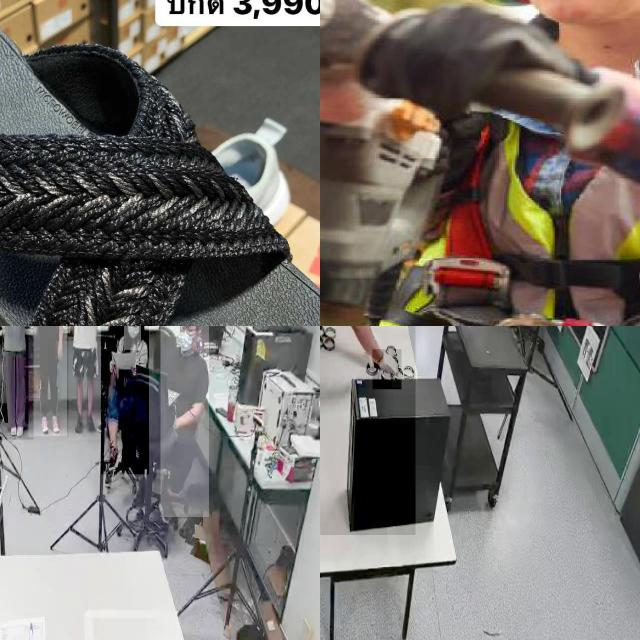Sandals: (0, 0, 320, 326)
face_mask: (179, 326, 199, 358), (124, 326, 141, 350)
hand_glove: (372, 349, 402, 390)
hand_noglove: (56, 341, 64, 361), (68, 326, 74, 337)
person: (320, 0, 640, 326), (320, 326, 416, 535), (160, 326, 209, 518), (100, 326, 149, 475), (28, 326, 67, 437), (0, 326, 34, 440), (68, 326, 101, 440)
shoes: (105, 439, 123, 474), (84, 408, 98, 434), (74, 409, 85, 438), (38, 415, 50, 438), (15, 419, 27, 440), (50, 413, 60, 436), (6, 418, 16, 440)
